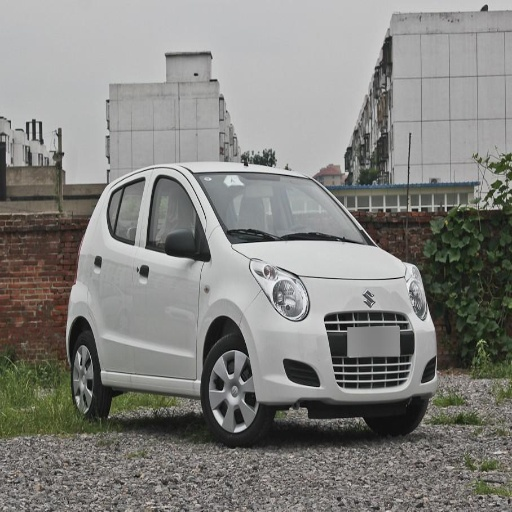front_bumper: (250, 277, 436, 407)
front_right_door: (134, 170, 205, 379)
front_right_light: (252, 262, 309, 320)
